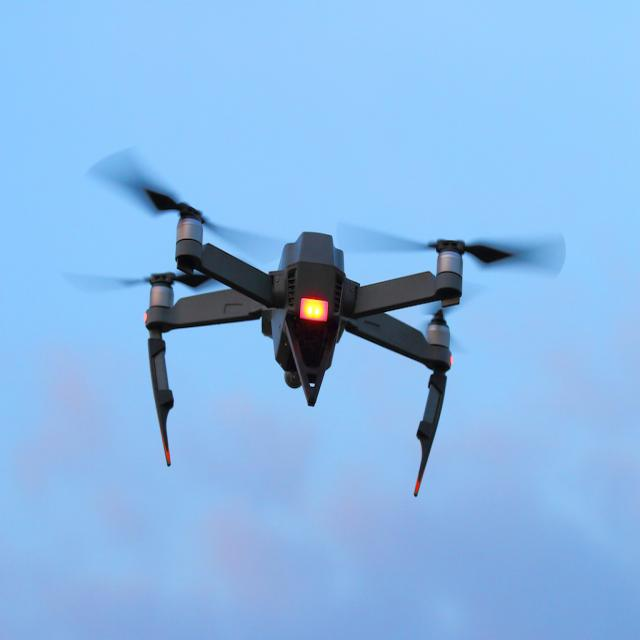drone: (90, 137, 523, 516)
